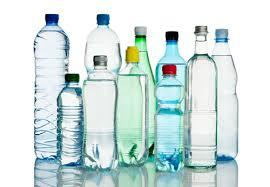Plastic bottle: (152, 16, 188, 171), (30, 8, 66, 162), (77, 56, 121, 173), (113, 44, 152, 175), (217, 25, 246, 164), (54, 72, 84, 173), (84, 13, 124, 66), (127, 17, 155, 76)
